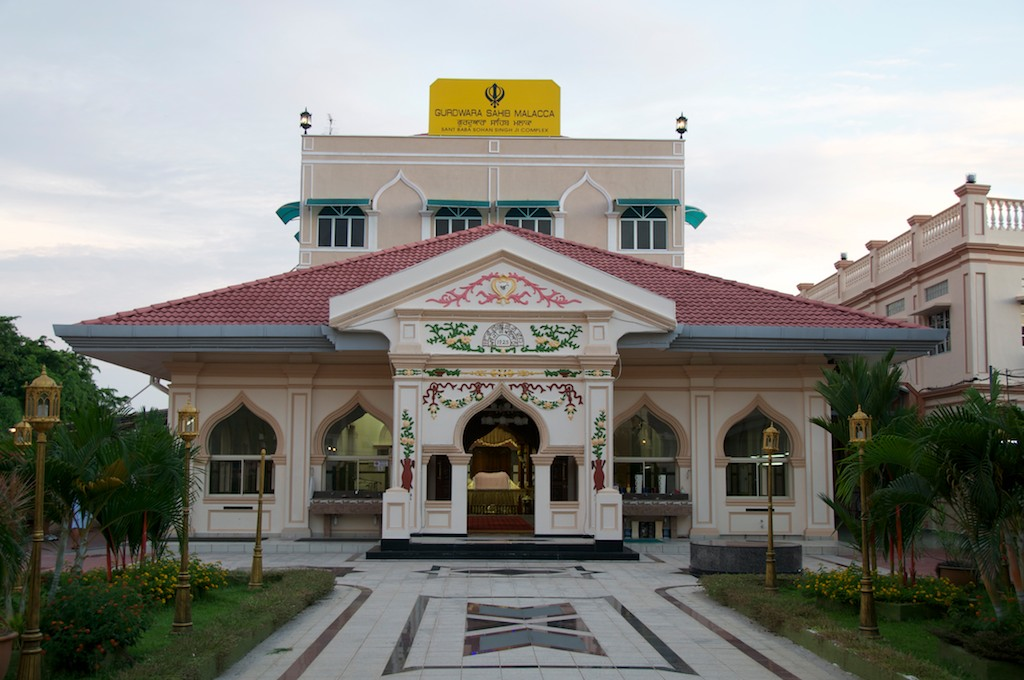Gurdwara: (117, 72, 838, 561)
